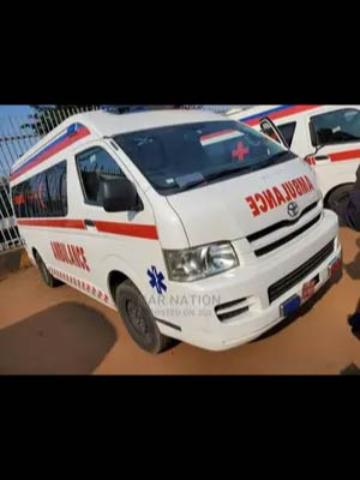van: (11, 106, 340, 354)
